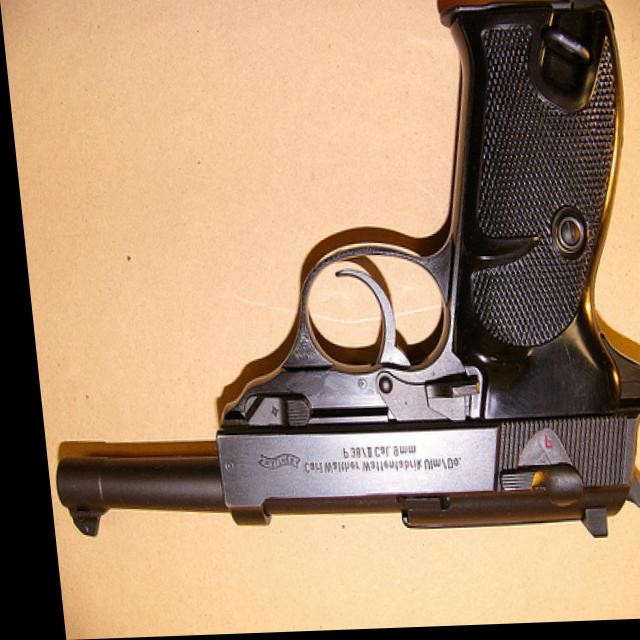handgun: (5, 0, 640, 559)
